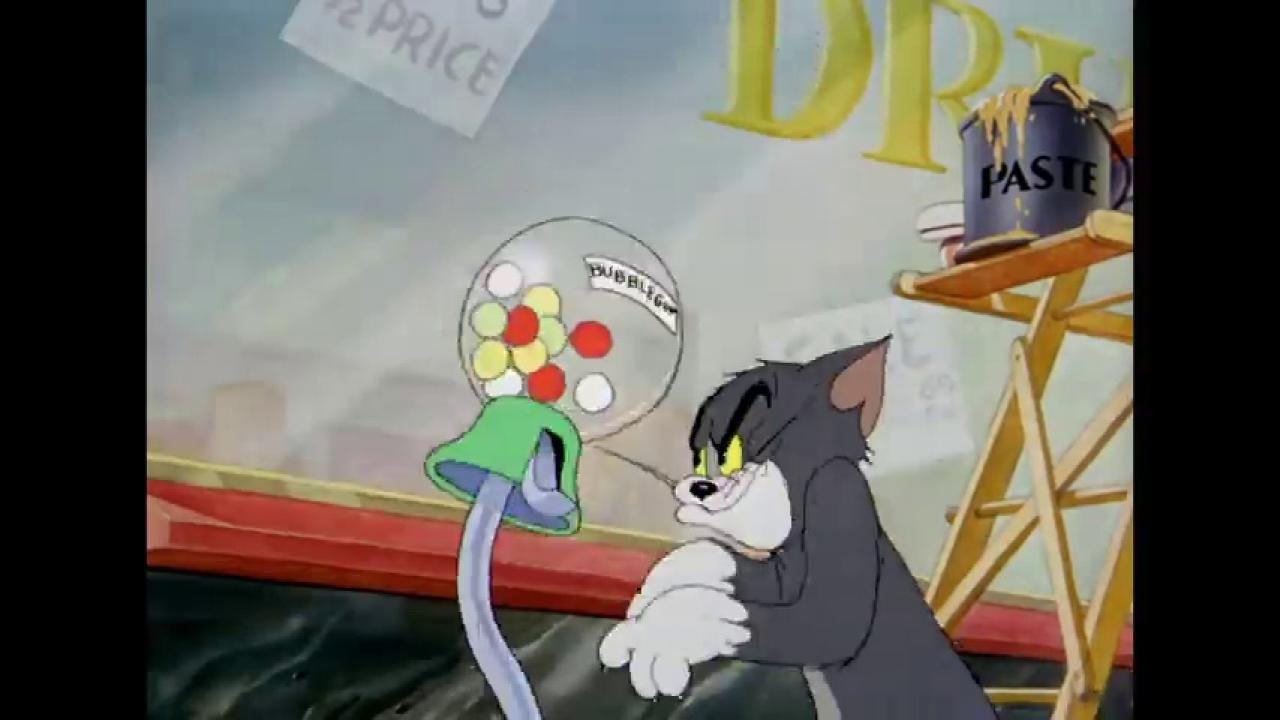Tom: (596, 330, 1001, 720)
